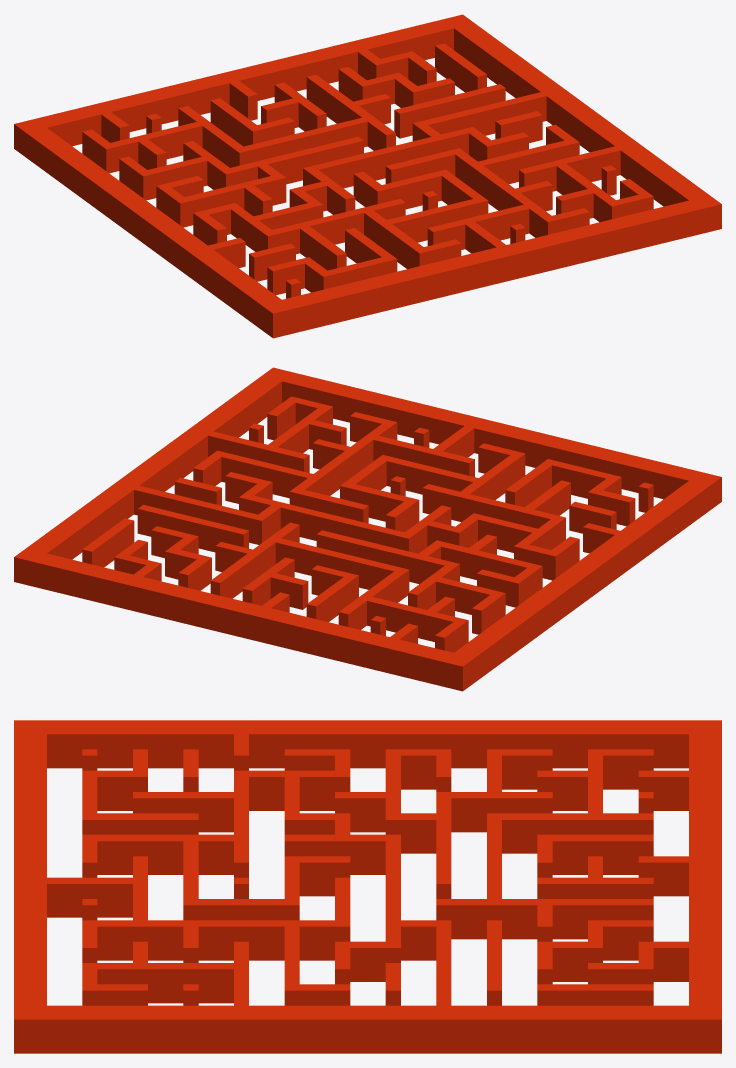
File: mazes5.fbx
3 views of the same model, one above another, from view 1: azimuth 30°, elevation 25°; view 2: azimuth 150°, elevation 25°; view 3: azimuth 270°, elevation 25° (orthographic). The views are drawn at different scales.
Visible parts, largest first — view 1: Plane.004; view 2: Plane.004; view 3: Plane.004.
Boxes of the visible parts, box(x1,y1,x2,y2) form: Plane.004: box(14, 14, 721, 338); Plane.004: box(14, 367, 721, 691); Plane.004: box(14, 720, 721, 1053).
Size of the model in its own units: 985 by 52 by 985.
